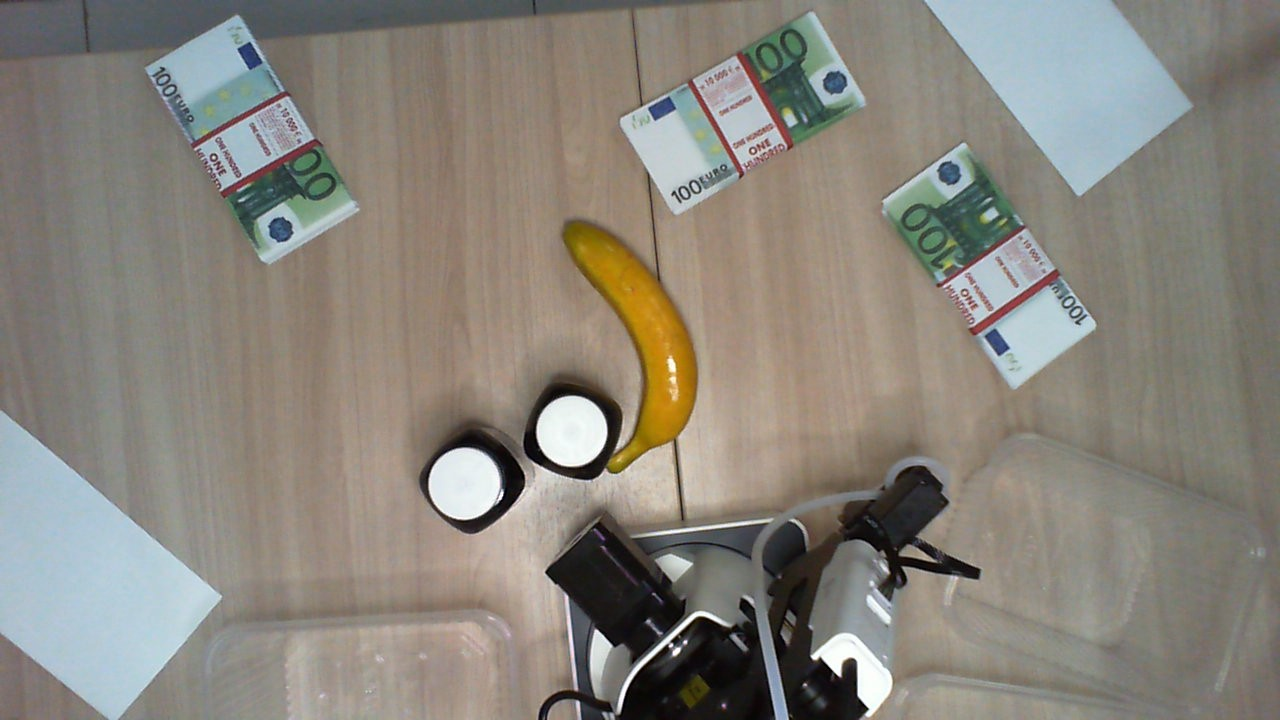banana: (563, 221, 698, 474)
bottle: (418, 430, 528, 538), (524, 380, 623, 478)
convert: (1, 407, 223, 719), (923, 1, 1195, 197)
money: (143, 15, 358, 268), (883, 143, 1097, 390), (618, 12, 866, 216)
